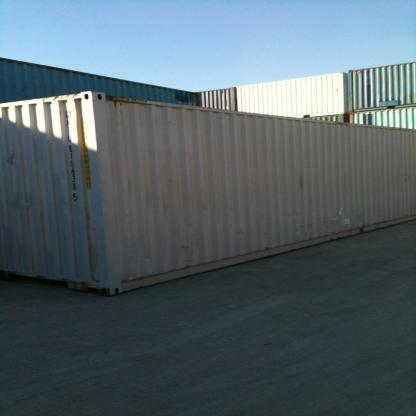Damage: (95, 85, 164, 123), (286, 165, 320, 198), (326, 203, 363, 232)
